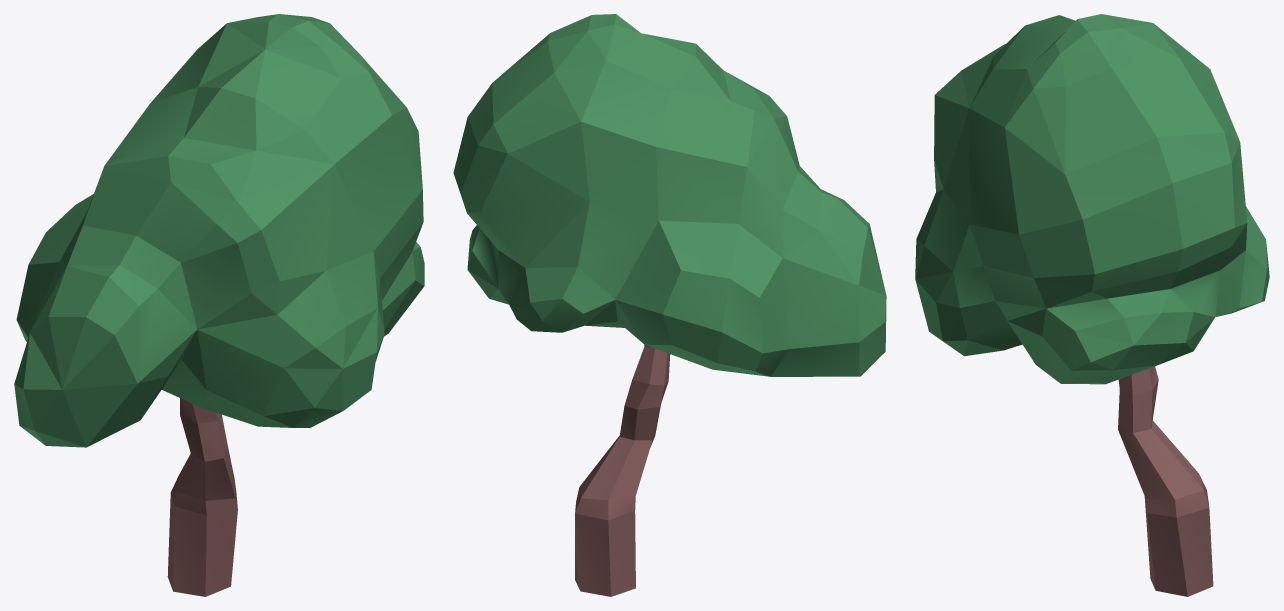
File: tree.fbx
3 views of the same model, side by side, from view 1: azimuth 30°, elevation 25°; view 2: azimuth 150°, elevation 25°; view 3: azimuth 270°, elevation 25° (orthographic). The views are drawn at different scales.
Visible parts, largest first — view 1: s.0021, s.0026; view 2: s.0021, s.0026; view 3: s.0021, s.0026.
Boxes of the visible parts, x1,y1,x2,y2 form: s.0021: (14,14,424,447); s.0026: (167,398,237,596); s.0021: (453,14,886,376); s.0026: (575,344,670,596); s.0021: (915,14,1269,384); s.0026: (1118,366,1213,596).
Bounding box in the file's own units: 15.48 × 11.25 × 20.43.
